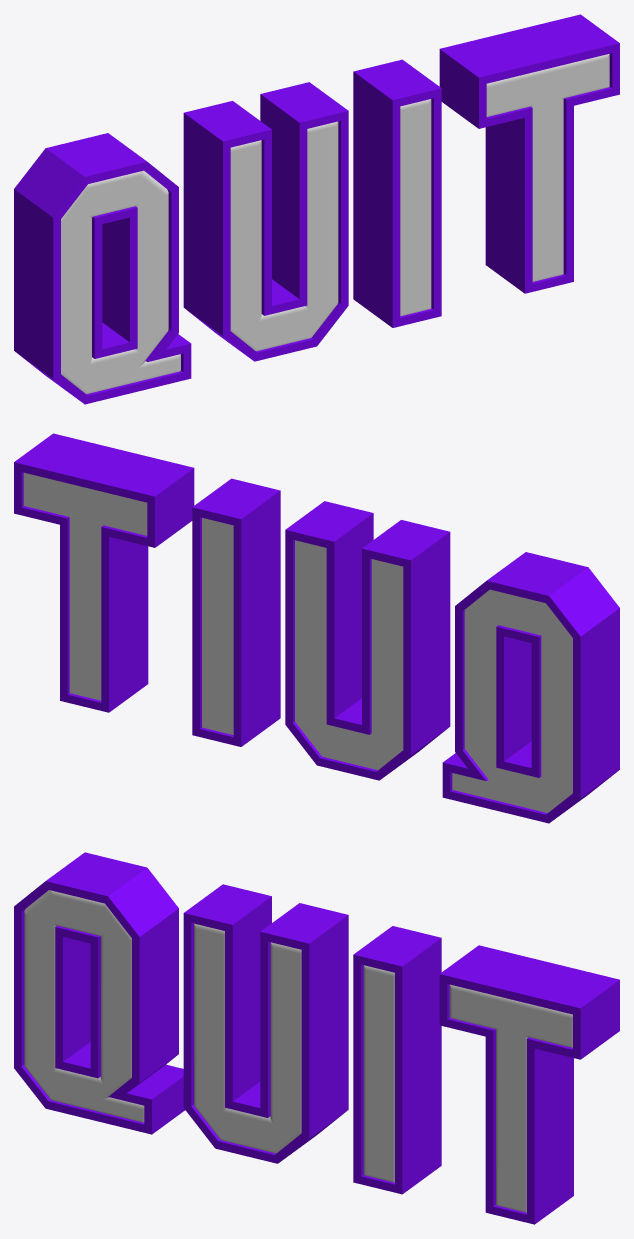
The model's file is Quit3DText.fbx.
3 views of the same model, one above another, from view 1: azimuth 30°, elevation 25°; view 2: azimuth 150°, elevation 25°; view 3: azimuth 330°, elevation 25° (orthographic).
Parts seen in each view (by area): view 1: Extrusion Model.000, Extrusion Model; view 2: Extrusion Model.000, Extrusion Model; view 3: Extrusion Model.000, Extrusion Model.
Boxes of the visible parts, box(x1,y1,x2,y2) form: Extrusion Model.000: box(14, 14, 619, 404); Extrusion Model: box(61, 54, 609, 394); Extrusion Model.000: box(14, 433, 619, 823); Extrusion Model: box(23, 472, 572, 812); Extrusion Model.000: box(14, 852, 619, 1224); Extrusion Model: box(24, 890, 572, 1212).
Size of the model in its own units: 39.67 by 15.44 by 4.77.
